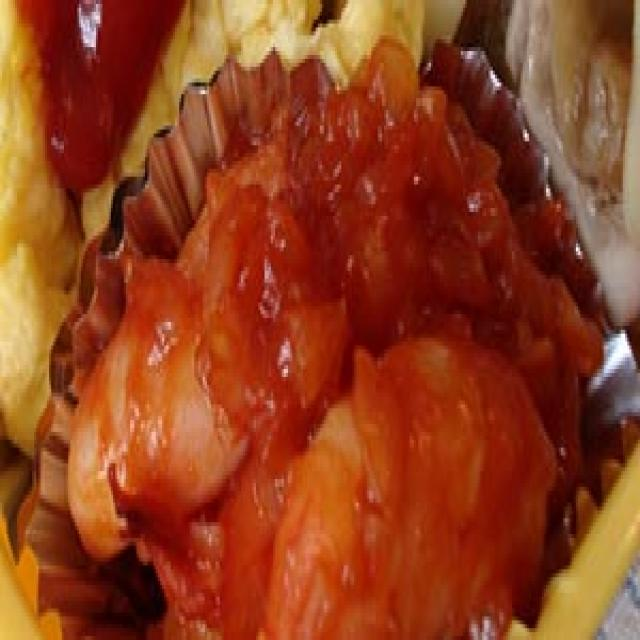熟制海鲜: (64, 74, 595, 640)
